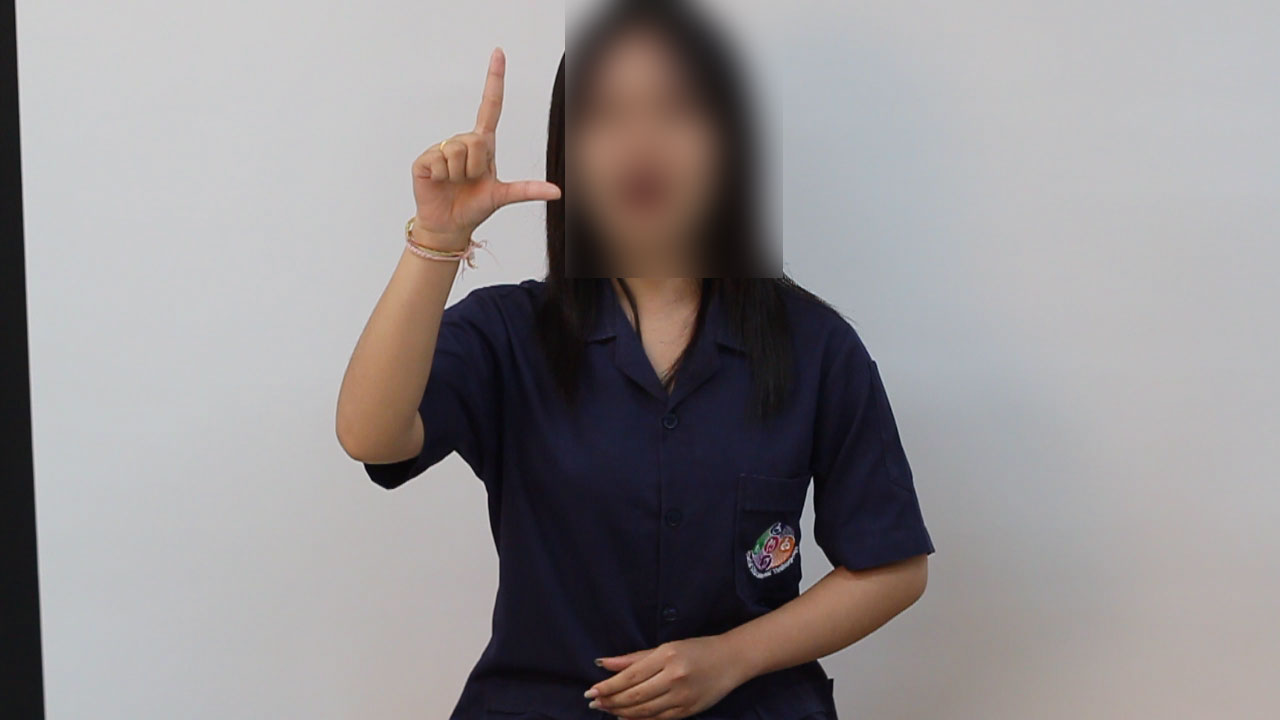lor: (354, 23, 597, 265)
